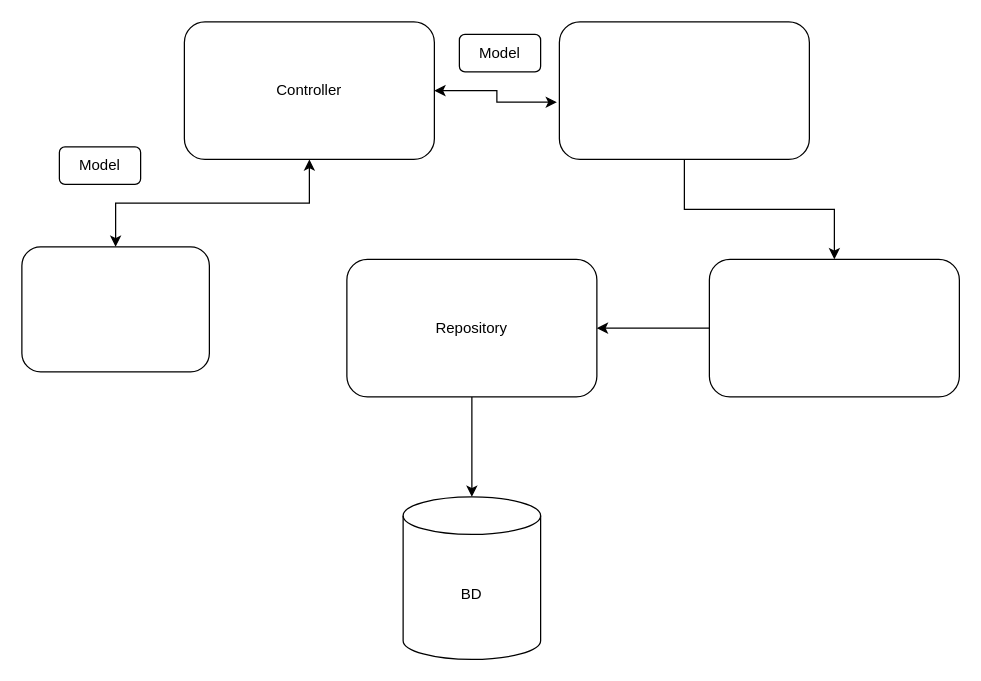
Image size: 981x681. Some labels were removed from this diagram. Here are the shapes that lost their labels. From the top down, the centre of each, then its label:
At [683,90]: "Services".
At [115,309]: "View ( Aplication)".
At [833,327]: "IRepository".
